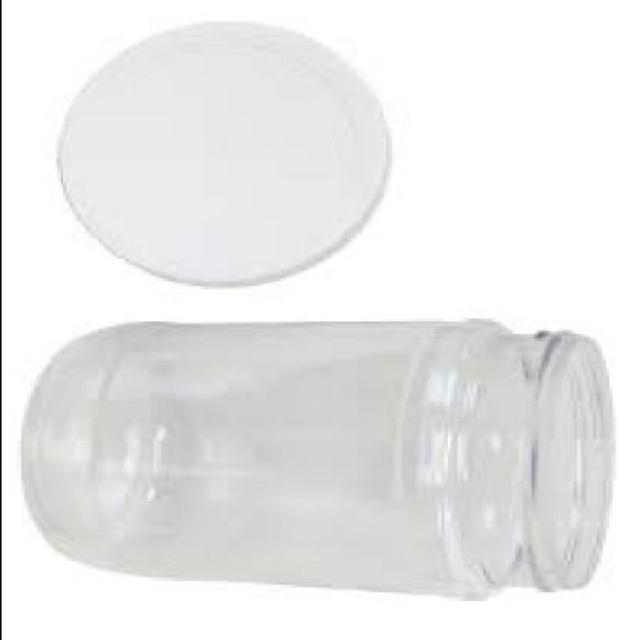GLASS: (23, 322, 617, 602)
PLASTIC: (64, 25, 390, 289)
